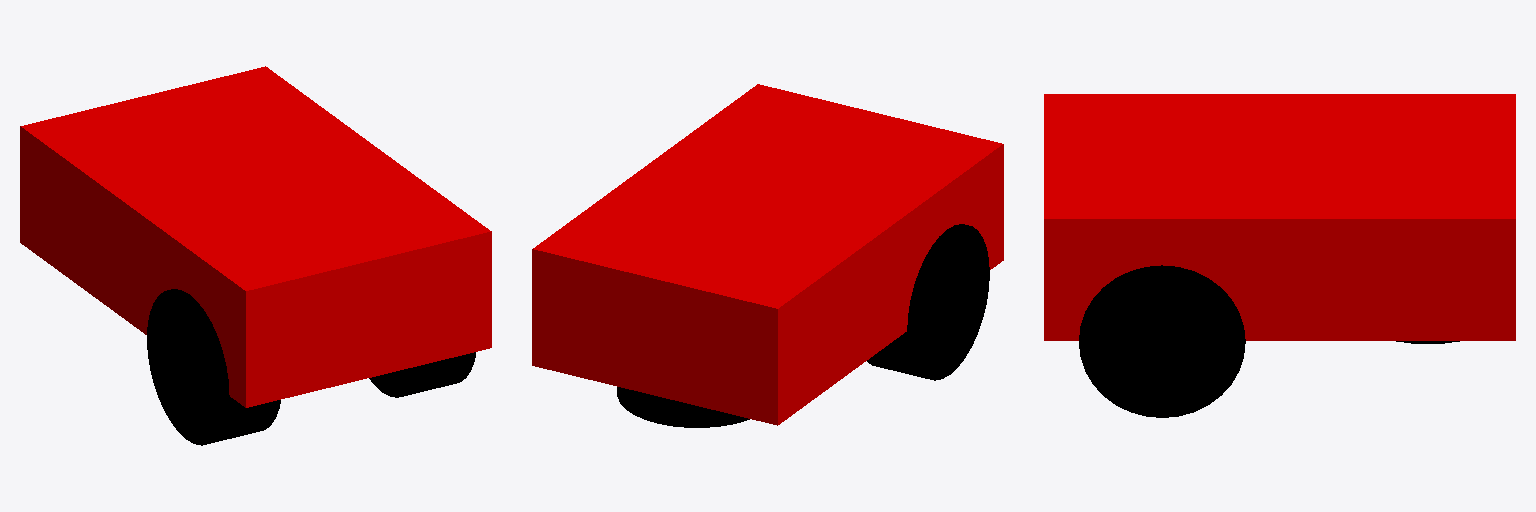
robot.urdf — my_robot:
<?xml version="1.0"?>

<!--
    https://github.com/AaronMR/Learning_ROS_for_Robotics_Programming/blob/master/chapter5_tutorials/urdf/robot1.urdf

    There are two principal fields that describe the geometry of a robot: links and joints.

    To check whether the sintax is fine or whether it have errors:
    $ check_urdf my_robot.urdf

    To get the Graphviz in pdf:
    $ urdf_to_graphviz my_robot.urdf

    To run:
    $ roslaunch robot_description display.launch model:=`rospack find robot_description`/urdf/my_robot.urdf
-->

<robot name="my_robot">

    <link name="base_link">
    <!--[visual, collision, inertial]-->
        <visual>
                <geometry>
                    <!--length, width, height-->
                    <box size="0.11 0.175 0.05"/>
                </geometry>
                <!--
                    The origin is cented in the z-axis
                -->
            <origin rpy="0 0 0" xyz="0 0 0.025"/>
            <material name="white">
                <!--
                    RGBA generator:
                    http://www.cssportal.com/css3-rgba-generator/
                -->
                <color rgba="0.9373 0 0 0.8"/>
            </material>
        </visual>
        <collision>
            <geometry>
                    <box size="0.11 .175 0.05"/>
            </geometry>
        </collision>
        <inertial>
            <mass value="50"/>
            <inertia ixx="1.0" ixy="0.0" ixz="0.0" iyy="1.0" iyz="0.0" izz="1.0"/>
        </inertial>             
    </link>

    <link name="wheel_right">
        <visual>
                <geometry>
                    <cylinder length="0.025" radius="0.031"/>
                </geometry>
                <!--Almost 86 degrees in the attack angle (pitch)-->
            <origin xyz="0 0 0" rpy="0 1.5708 0"/>
            <material name="black">
                <color rgba="0 0 0 0.8"/>
            </material>
        </visual>
        <collision>
            <geometry>
                    <cylinder length="0.025" radius="0.031"/>
            </geometry>
        </collision>
        <inertial>
            <mass value="5"/>
            <inertia ixx="1.0" ixy="0.0" ixz="0.0" iyy="1.0" iyz="0.0" izz="1.0"/>
        </inertial>
    </link>

    <link name="wheel_left">
        <visual>
                <geometry>
                    <cylinder length="0.025" radius="0.031"/>
                </geometry>
            <origin xyz="0 0 0" rpy="0 1.5708 0"/>
            <material name="black"/>
        </visual>
        <collision>
            <geometry>
                    <cylinder length="0.05" radius="0.05"/>
            </geometry>
        </collision>
        <inertial>
            <mass value="5"/>
            <inertia ixx="1.0" ixy="0.0" ixz="0.0" iyy="1.0" iyz="0.0" izz="1.0"/>
        </inertial>

    </link>
    
    <link name="wheel_free">
        <visual>
                <geometry>
                    <cylinder length="0.025" radius="0.031"/>
                </geometry>
            <origin rpy="0 0 0" xyz="0 0 0"/>
            <material name="black"/>
        </visual>
        <collision>
            <geometry>
                    <cylinder length="0.01" radius="0.015"/>
            </geometry>
        </collision>
        <inertial>
            <mass value="5"/>
            <inertia ixx="1.0" ixy="0.0" ixz="0.0" iyy="1.0" iyz="0.0" izz="1.0"/>
        </inertial>
    </link>

    <!--
        ################### JOINTS ###################
    -->

    <joint name="base_to_wheel_right" type="fixed">
        <parent link="base_link"/>
        <child link="wheel_right"/>
        <origin xyz="0.04375 -0.04375 0"/>
    </joint>

    <joint name="base_to_wheel_left" type="fixed">
        <parent link="base_link"/>
        <child link="wheel_left"/>
        <origin xyz="-0.04375 -0.04375 0"/>
    </joint>

    <joint name="base_to_wheel_free" type="fixed">
        <parent link="base_link"/>
        <child link="wheel_free"/>
        <origin xyz="0 0.055 0"/>
    </joint>
    
</robot>

--- Facts derived from the render (not from the file) ---
Views: 3 orthographic renders of the robot side by side, from view 1: azimuth 30°, elevation 25°; view 2: azimuth 150°, elevation 25°; view 3: azimuth 270°, elevation 25°.
Robot: my_robot — 4 links, 3 joints (3 fixed); root link base_link; default pose: all joints at 0.
Visible links, largest first — view 1: base_link, wheel_left, wheel_right; view 2: base_link, wheel_left, wheel_free; view 3: base_link, wheel_right.
Link boxes in pixels (x1,y1,x2,y2): base_link: [20, 66, 491, 407]; wheel_left: [147, 289, 280, 445]; wheel_right: [369, 352, 475, 397]; base_link: [532, 84, 1003, 425]; wheel_left: [867, 224, 989, 380]; wheel_free: [617, 387, 749, 427]; base_link: [1044, 94, 1515, 340]; wheel_right: [1079, 265, 1245, 417].
Bounding box of the posed robot: 0.1125 × 0.175 × 0.081 m (x, y, z).
Geometry: primitives only (box / cylinder / sphere), no mesh files.